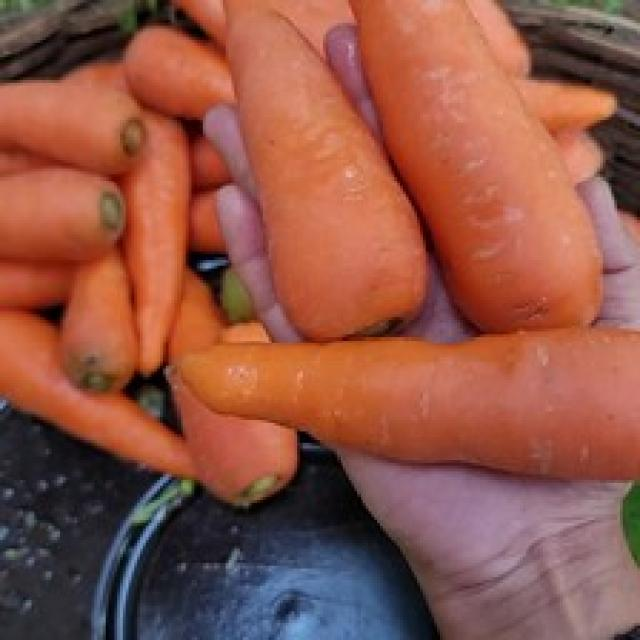Fresh_Carrot: (361, 0, 621, 329), (234, 1, 416, 342), (217, 325, 634, 464), (128, 118, 189, 366)
